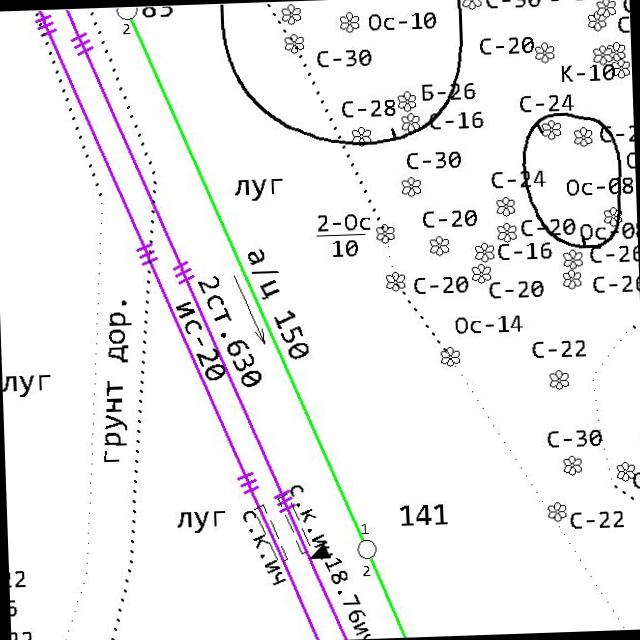bushes: (280, 2, 302, 28), (533, 40, 556, 64), (547, 368, 571, 391), (428, 234, 451, 257), (338, 10, 360, 34), (572, 124, 594, 148), (399, 110, 421, 134), (350, 124, 372, 148), (400, 174, 422, 198), (384, 270, 406, 294), (439, 344, 461, 368), (283, 32, 306, 54), (602, 205, 624, 228), (496, 220, 518, 243), (473, 240, 495, 263), (470, 262, 492, 285), (562, 247, 584, 270), (610, 58, 632, 80), (396, 90, 418, 112), (562, 454, 584, 476), (614, 460, 636, 482), (586, 9, 607, 32), (606, 39, 627, 62), (495, 195, 516, 218), (541, 118, 562, 140), (375, 222, 396, 244), (561, 268, 582, 290), (592, 43, 612, 66), (547, 500, 567, 523), (594, 0, 617, 18)
mark: (308, 540, 331, 562)
well: (354, 537, 379, 561)
